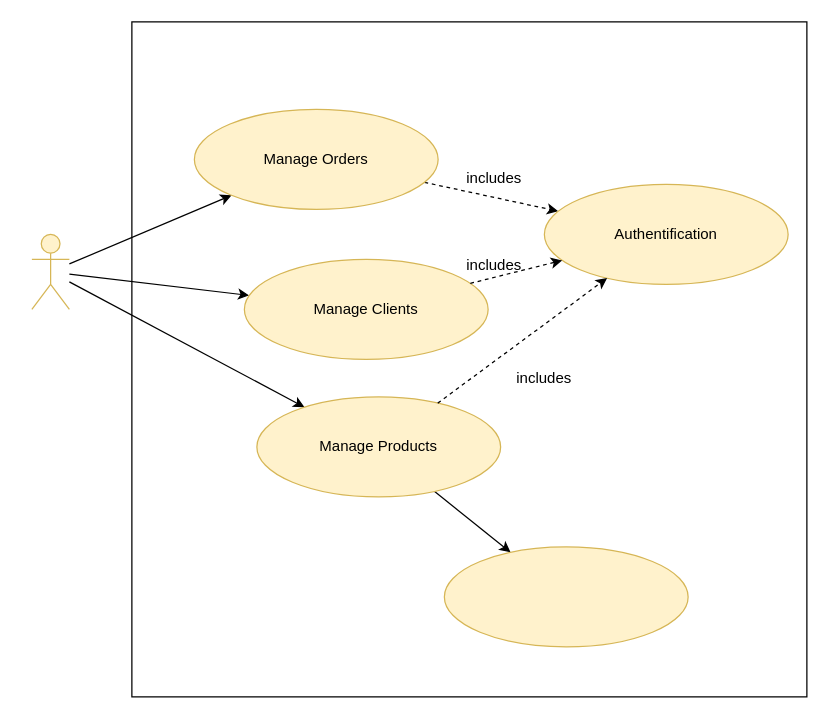
The diagram is 829 pixels wide and 719 high, and some of its shapes have lost their labels. Each missing label, with the centre of its shape:
Manage Stock: [565,596]
Manager: [50,271]
